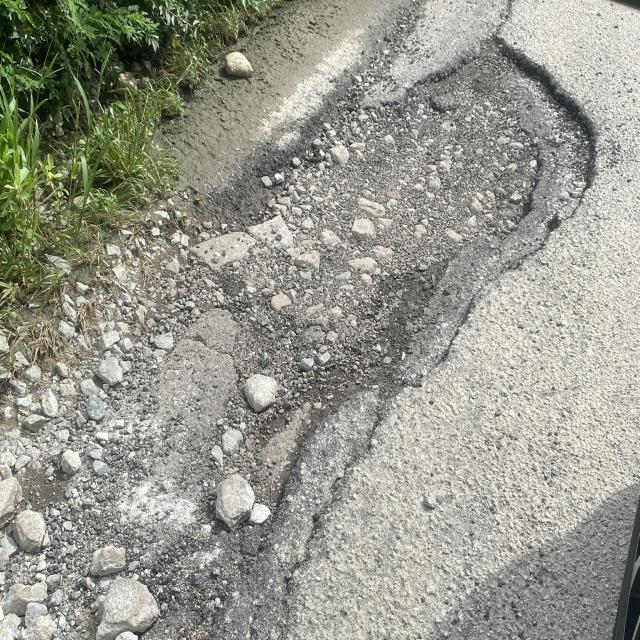Pothole: (410, 0, 604, 405), (233, 232, 381, 608)
